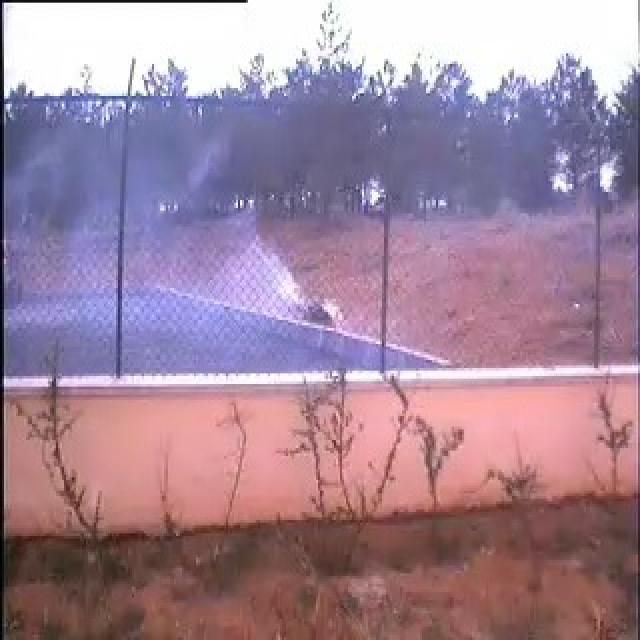smoke: (77, 126, 317, 371)
